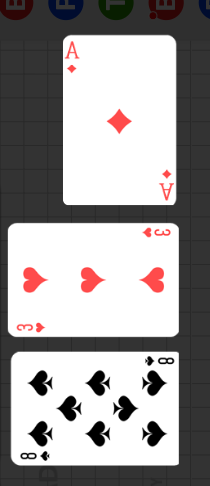10S: (19, 449, 53, 462)
AD: (66, 40, 83, 76), (157, 166, 173, 201)
